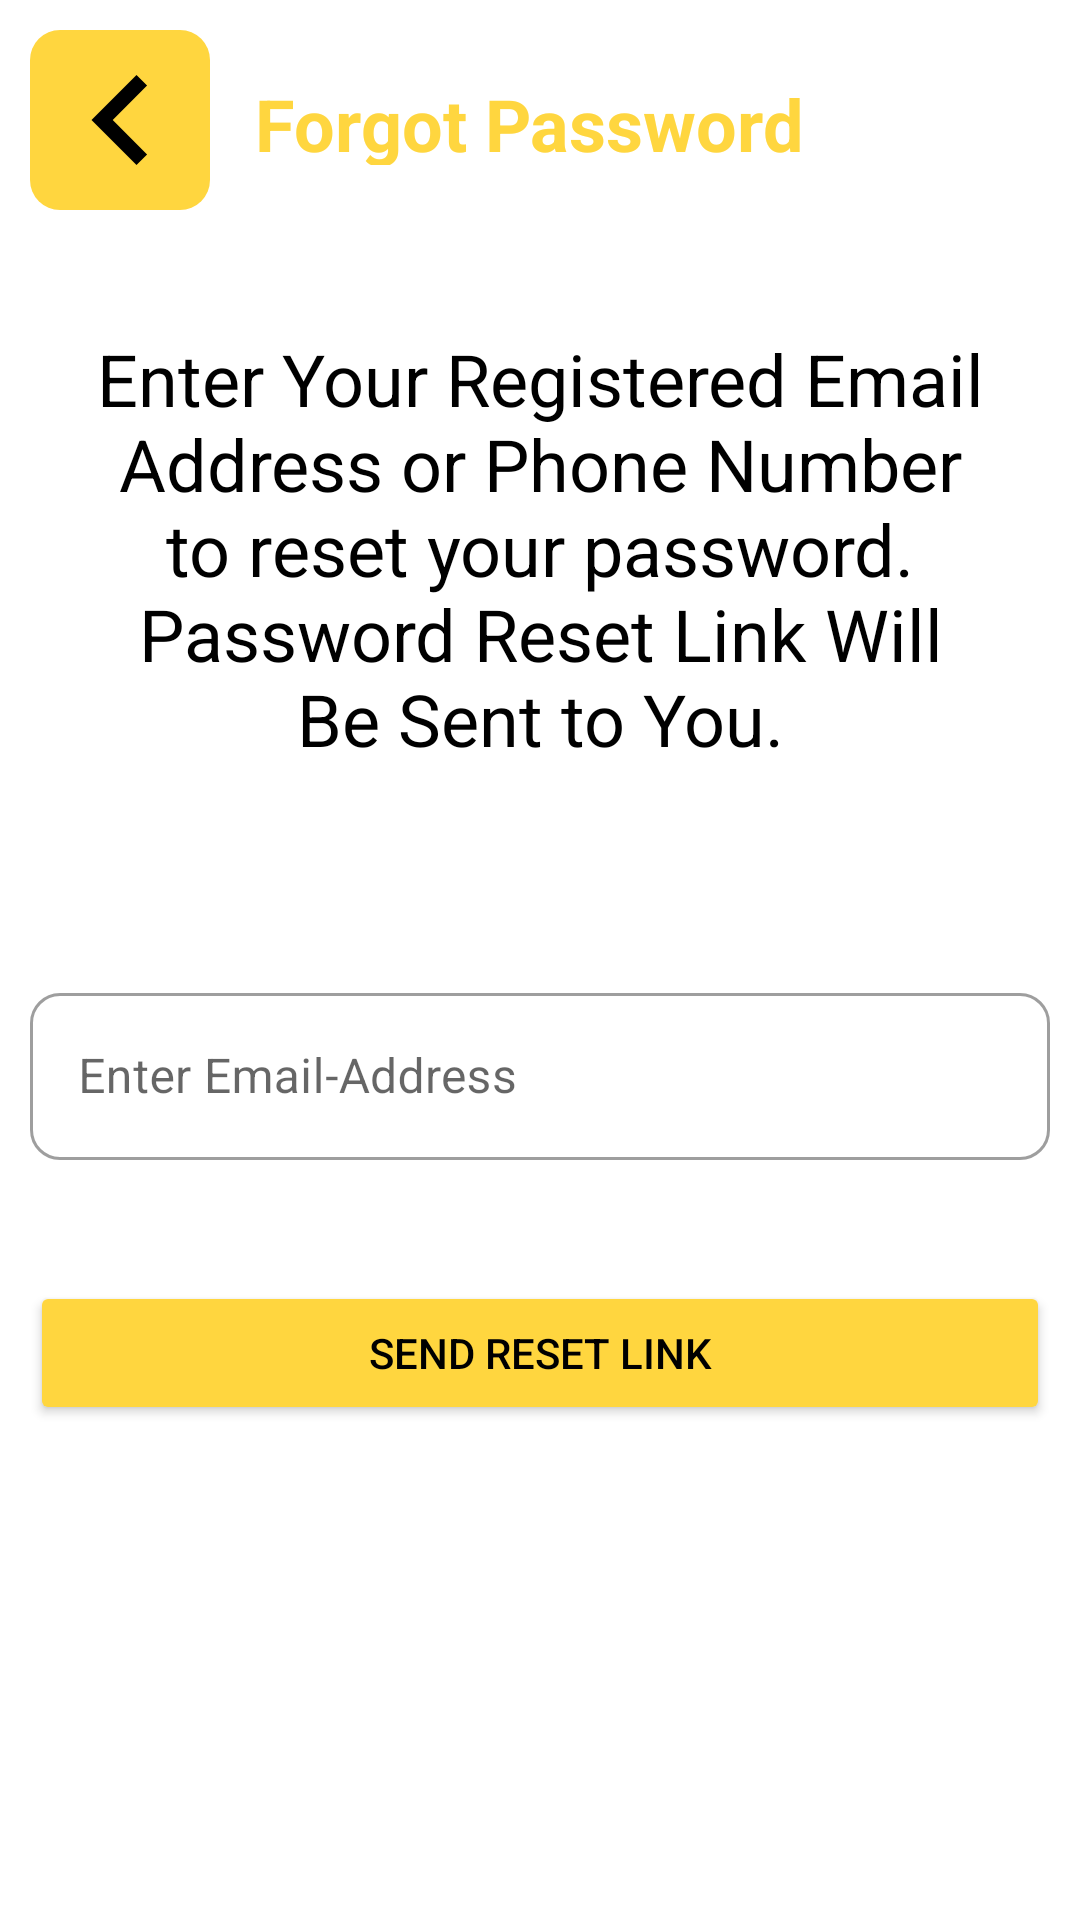

Point at icon controls on the screen. Image size 1080w x 1920h, points as point (x, y).
back: point (120, 120)
